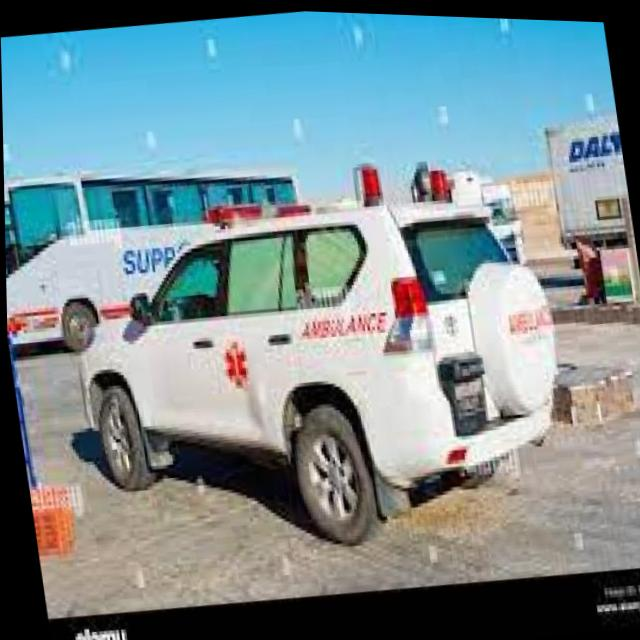ambulance: (56, 114, 586, 587)
